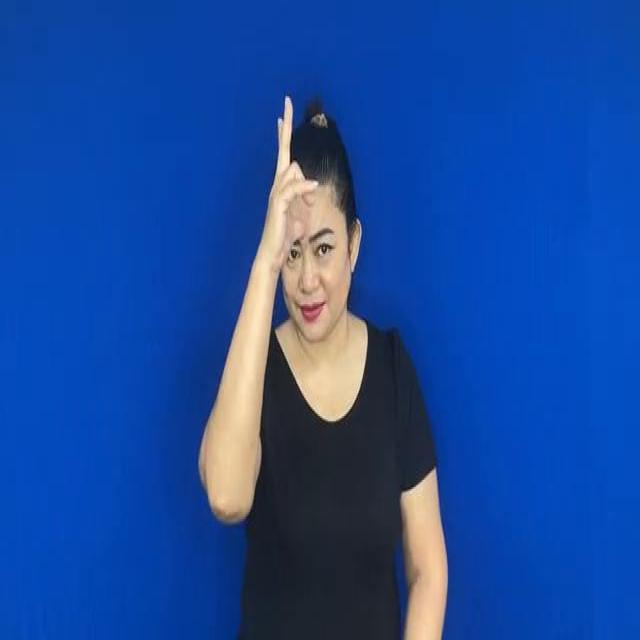chicken: (264, 93, 314, 238)
